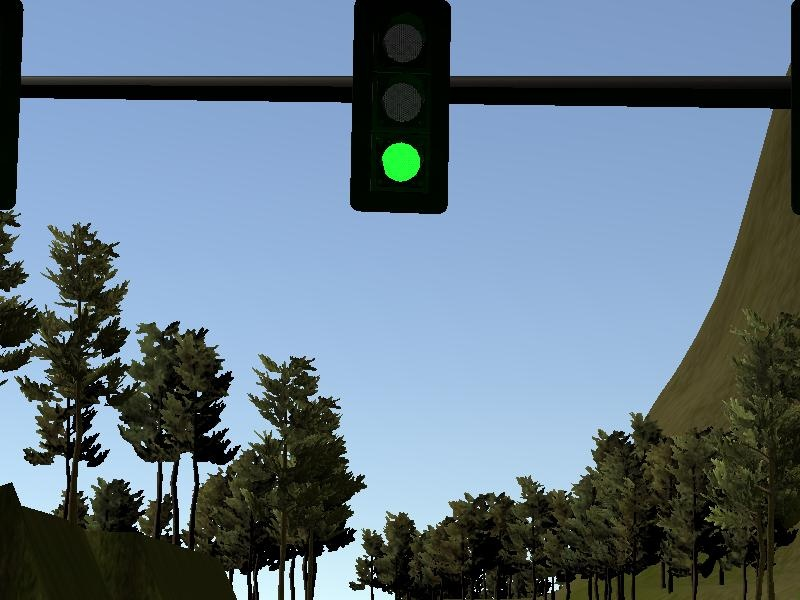traffic_light_green: (1, 1, 800, 220)
